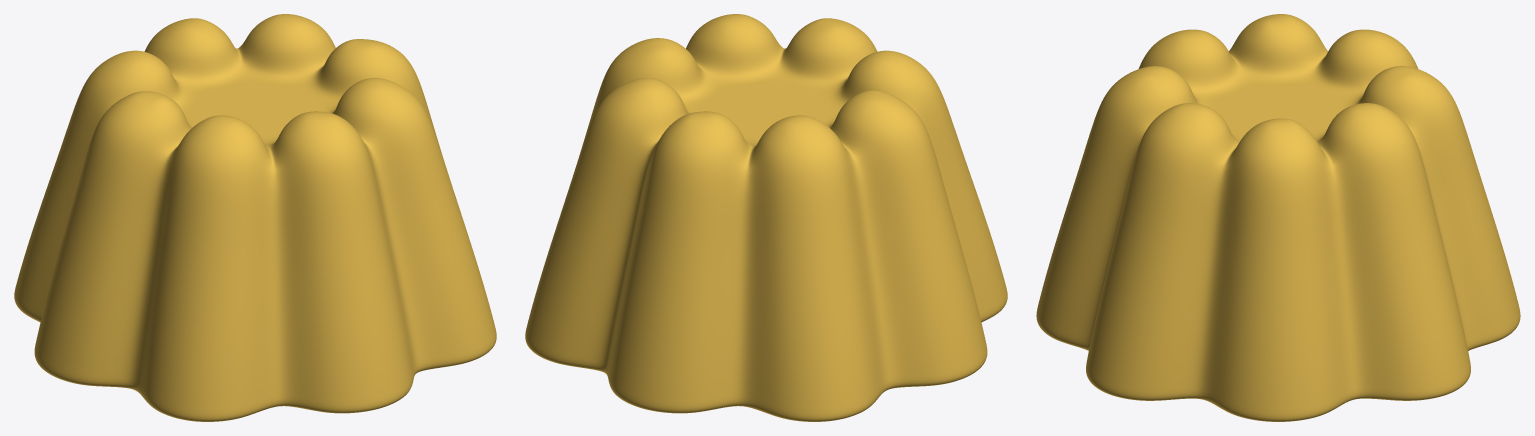
File: Jellopudding.fbx
3 views of the same model, side by side, from view 1: azimuth 30°, elevation 25°; view 2: azimuth 150°, elevation 25°; view 3: azimuth 270°, elevation 25° (orthographic).
Parts seen in each view (by area): view 1: Circle; view 2: Circle; view 3: Circle.
Part boxes in pixels (bbox=[...]): Circle: bbox=[14, 14, 496, 421]; Circle: bbox=[525, 14, 1007, 421]; Circle: bbox=[1036, 14, 1520, 421].
Size of the model in its own units: 3.34 by 1.93 by 3.34.
